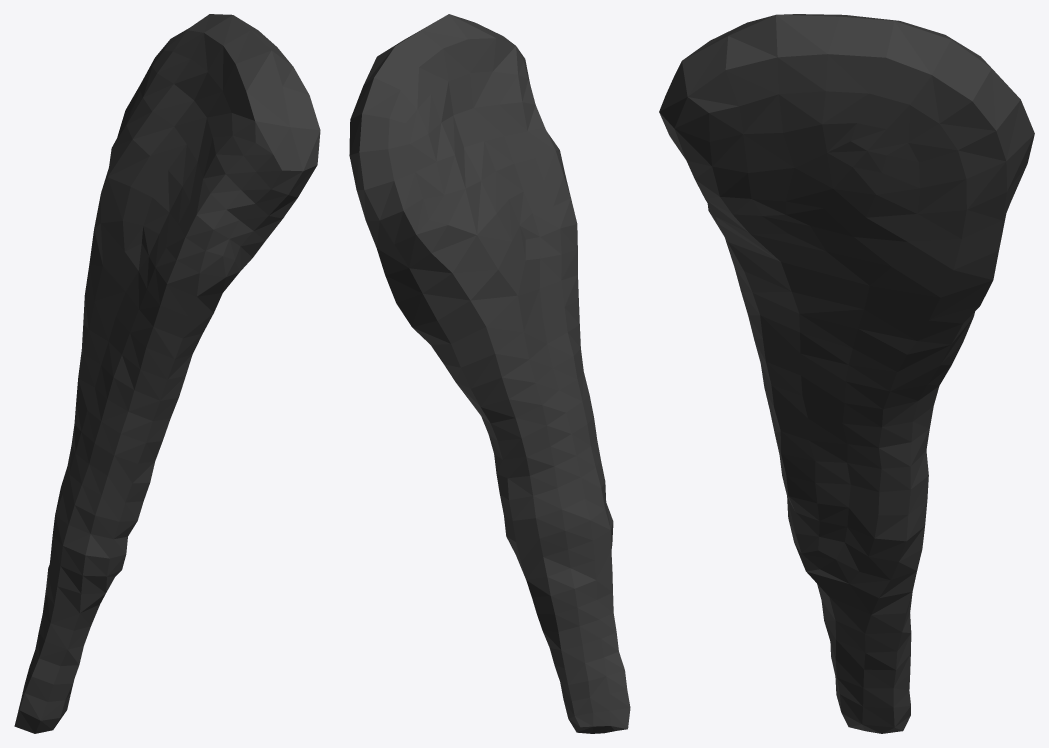
File: Fibula.glb
The picture shows the model from 3 angles, left to right: view 1: azimuth 30°, elevation 25°; view 2: azimuth 150°, elevation 25°; view 3: azimuth 270°, elevation 25°; orthographic projection. The views are drawn at different scales.
Visible parts, largest first — view 1: Fibula; view 2: Fibula; view 3: Fibula.
Part boxes in pixels (x1,y1,x2,y2): Fibula: (14,14,320,733); Fibula: (349,14,630,733); Fibula: (659,14,1034,733).
Size of the model in its own units: 0.2869 by 0.711 by 0.2916.
Materials: 1 (1 with a texture image).
